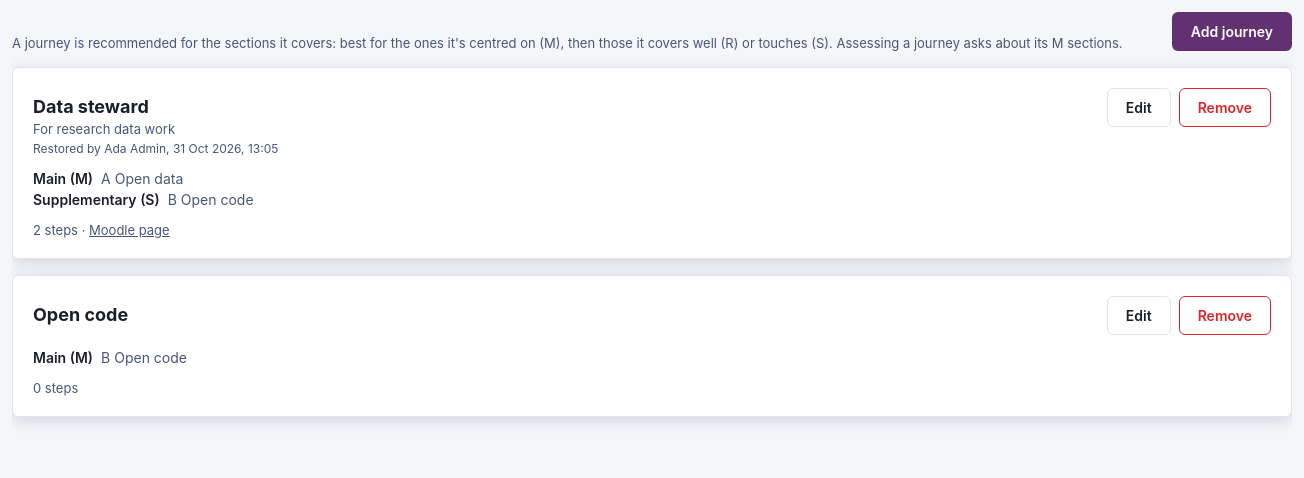
Scenario: JourneysPanel › does nothing when removal isn't confirmed, and reports a failure
This screenshot has width=1304, height=478.
Click the button with aria-label "Remove Open code".
click(1225, 316)  # box top-left (1179, 296), bottom-right (1271, 335)
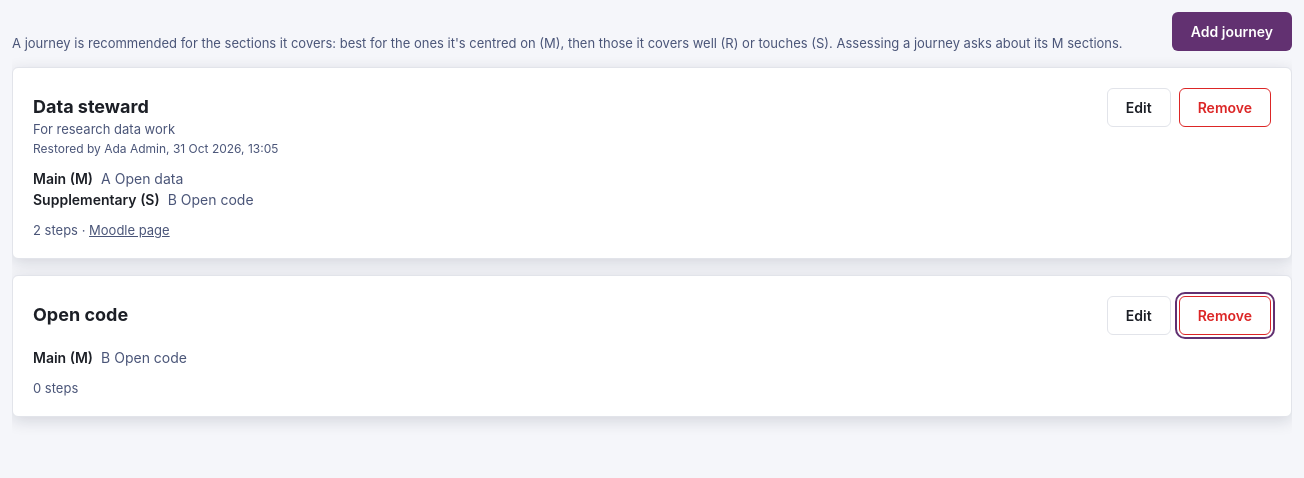
Click the button with aria-label "Remove Open code".
click(1225, 316)  # box top-left (1179, 296), bottom-right (1271, 335)
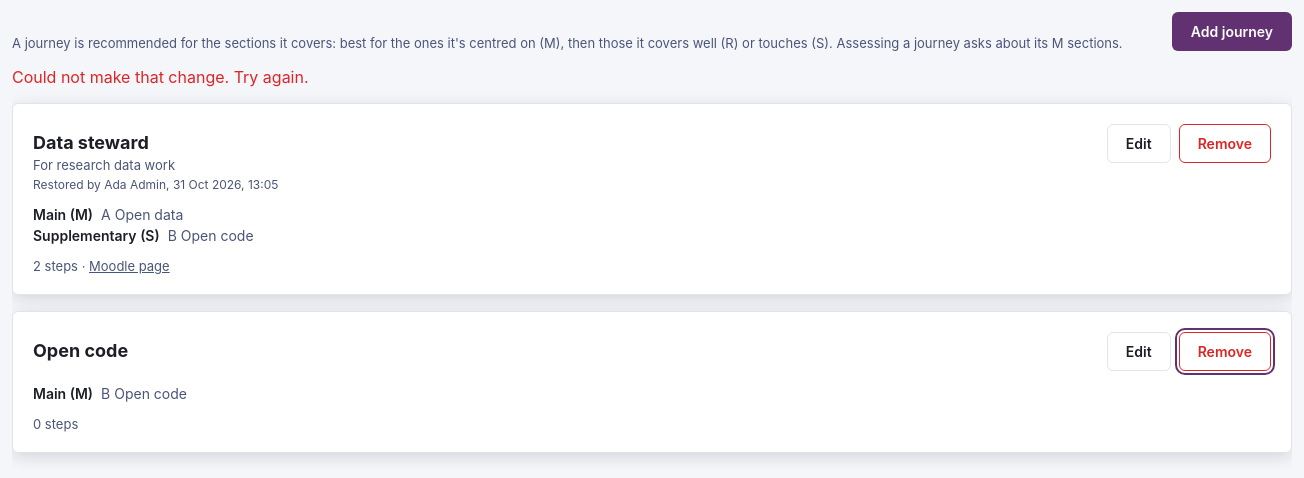
Expected: the message shows "Could not make that change", top-left (12, 67), bottom-right (309, 87)
